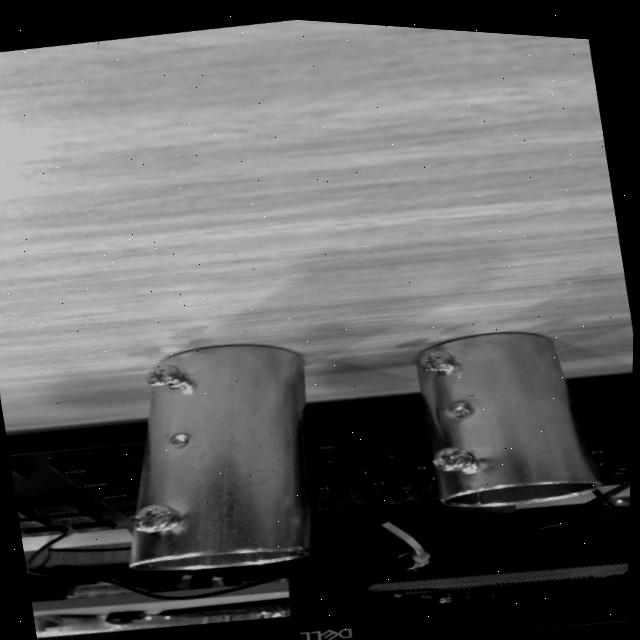Co_Lon: (119, 341, 313, 572)
Co_Nho: (413, 319, 603, 518)
